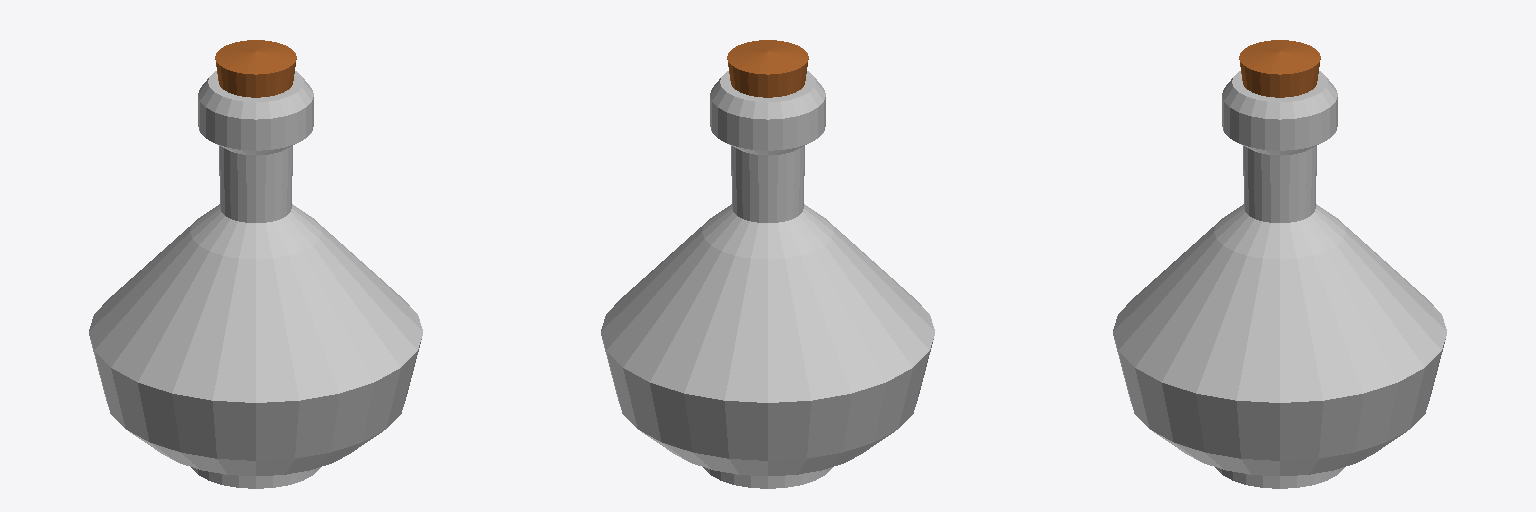
File: potionMedium_red.obj
3 views of the same model, side by side, from view 1: azimuth 30°, elevation 25°; view 2: azimuth 150°, elevation 25°; view 3: azimuth 270°, elevation 25° (orthographic).
Parts seen in each view (by area): view 1: potionMedium_red_Cylinder.169; view 2: potionMedium_red_Cylinder.169; view 3: potionMedium_red_Cylinder.169.
Boxes of the visible parts, <box> form: potionMedium_red_Cylinder.169: <box>89,40,422,488</box>; potionMedium_red_Cylinder.169: <box>601,40,934,488</box>; potionMedium_red_Cylinder.169: <box>1113,40,1446,488</box>.
Bounding box in the file's own units: 0.7978 × 1.08 × 0.7978.